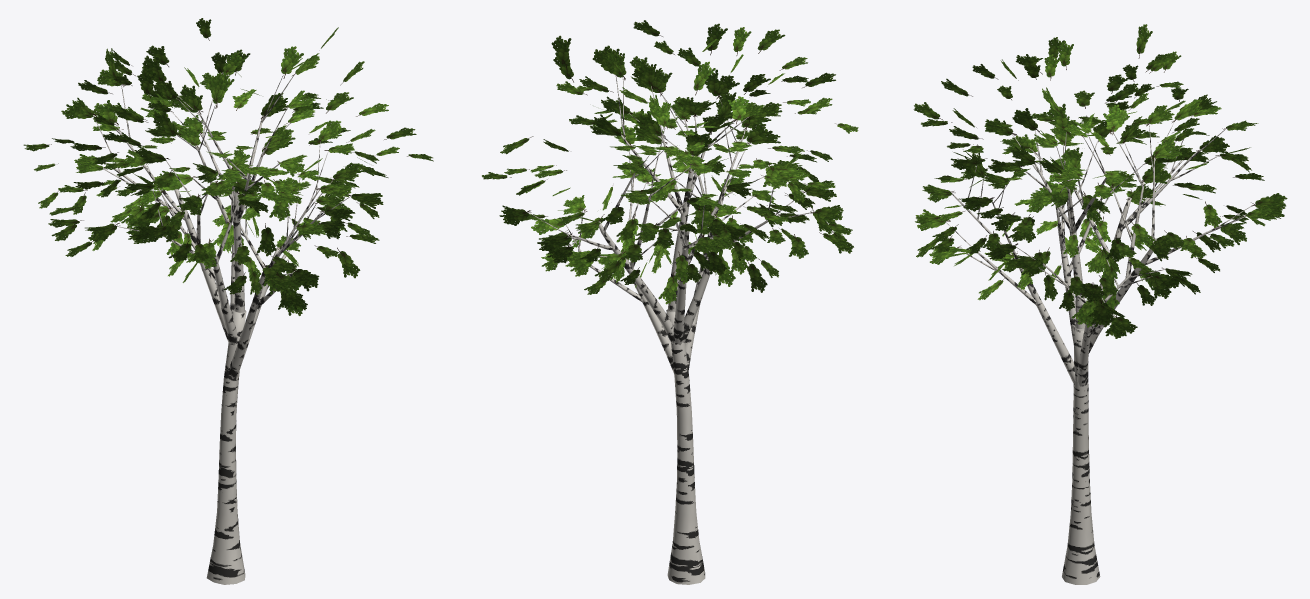
File: park_birch.glb
3 views of the same model, side by side, from view 1: azimuth 30°, elevation 25°; view 2: azimuth 150°, elevation 25°; view 3: azimuth 270°, elevation 25° (orthographic). The views are drawn at different scales.
Visible parts, largest first — view 1: park_birch; view 2: park_birch; view 3: park_birch.
Part boxes in pixels (x1=…): park_birch: x1=23, y1=18, x2=433, y2=584; park_birch: x1=482, y1=20, x2=858, y2=584; park_birch: x1=913, y1=24, x2=1287, y2=584.
Size of the model in its own units: 7.55 by 11.12 by 7.72.
2 materials, 2 textured.
